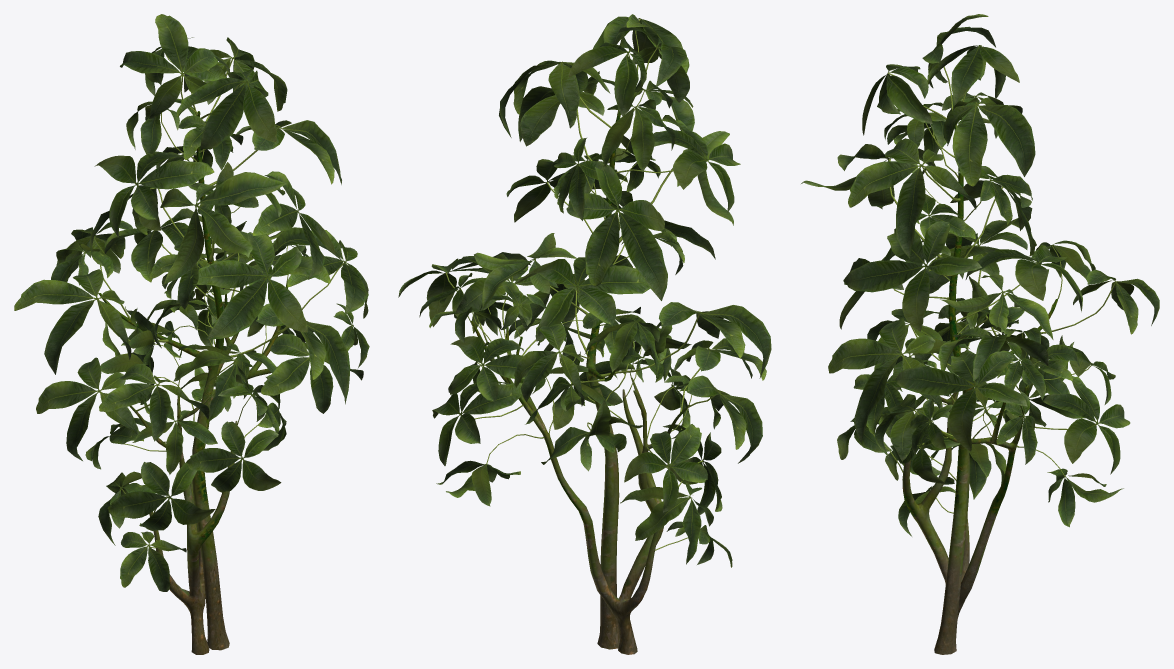
The model's file is pachira_aquatica_01_04.glb.
The picture shows the model from 3 angles, left to right: view 1: azimuth 30°, elevation 25°; view 2: azimuth 150°, elevation 25°; view 3: azimuth 270°, elevation 25°; orthographic projection. The views are drawn at different scales.
Visible parts, largest first — view 1: pachira_aquatica_01_leaves, pachira_aquatica_01_bark; view 2: pachira_aquatica_01_leaves, pachira_aquatica_01_bark; view 3: pachira_aquatica_01_leaves, pachira_aquatica_01_bark.
Boxes of the visible parts, box(x1,y1,x2,y2) form: pachira_aquatica_01_leaves: box(14, 14, 369, 591); pachira_aquatica_01_bark: box(99, 111, 287, 654); pachira_aquatica_01_leaves: box(398, 14, 771, 567); pachira_aquatica_01_bark: box(471, 112, 689, 654); pachira_aquatica_01_leaves: box(801, 14, 1159, 536); pachira_aquatica_01_bark: box(902, 126, 1057, 654).
Size of the model in its own units: 1.05 by 1.9 by 0.997.
2 materials, 2 textured.
